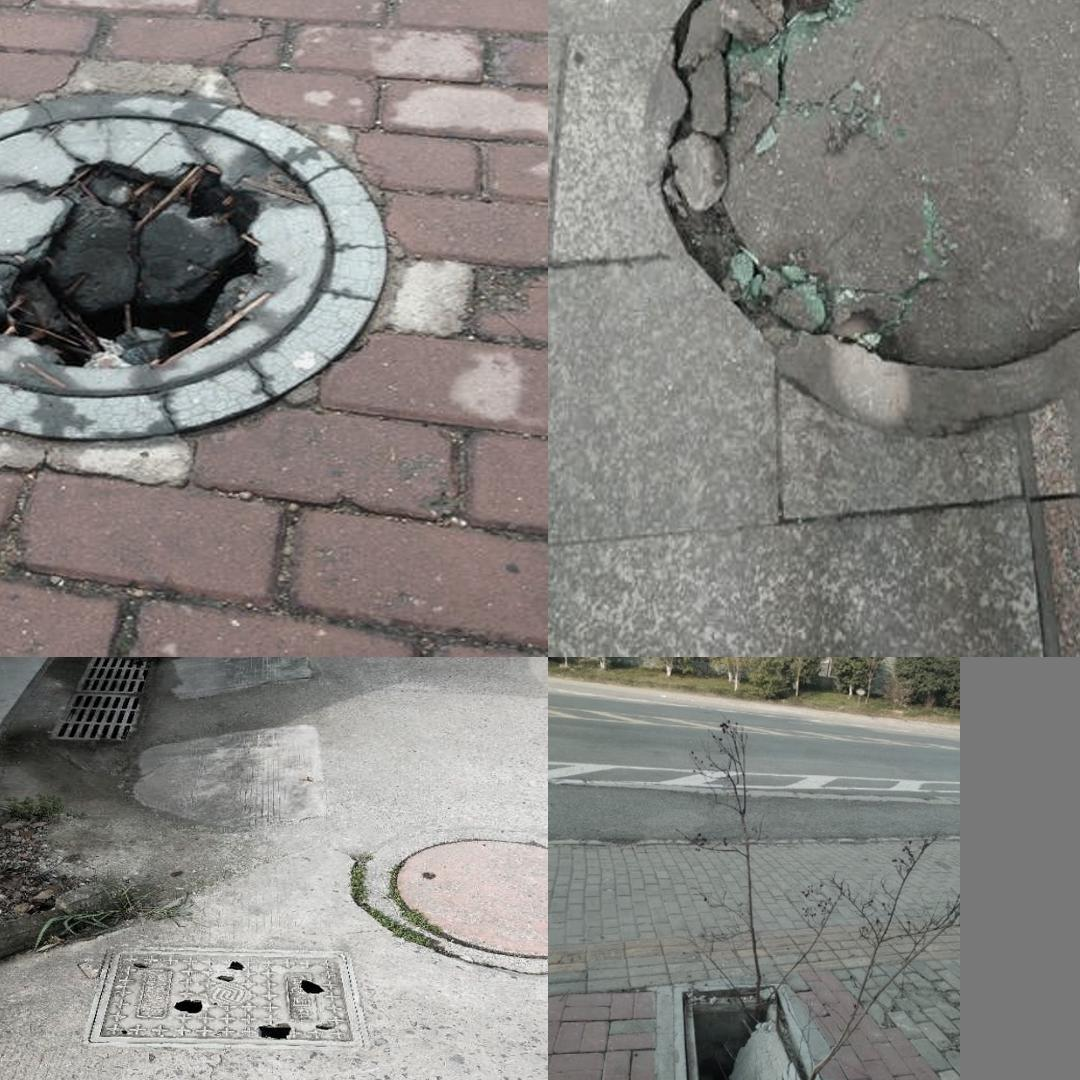broke: (630, 0, 1080, 438), (0, 73, 424, 442), (84, 947, 367, 1049), (671, 983, 844, 1080)
